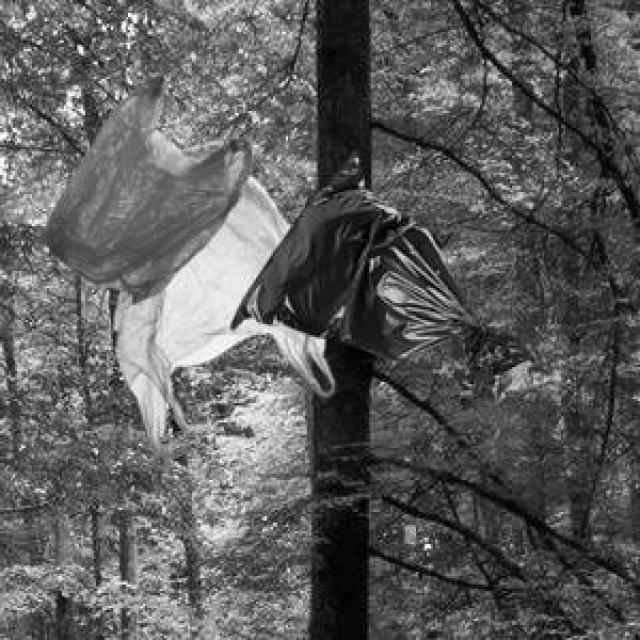miscellaneous trash: (226, 145, 546, 401)
